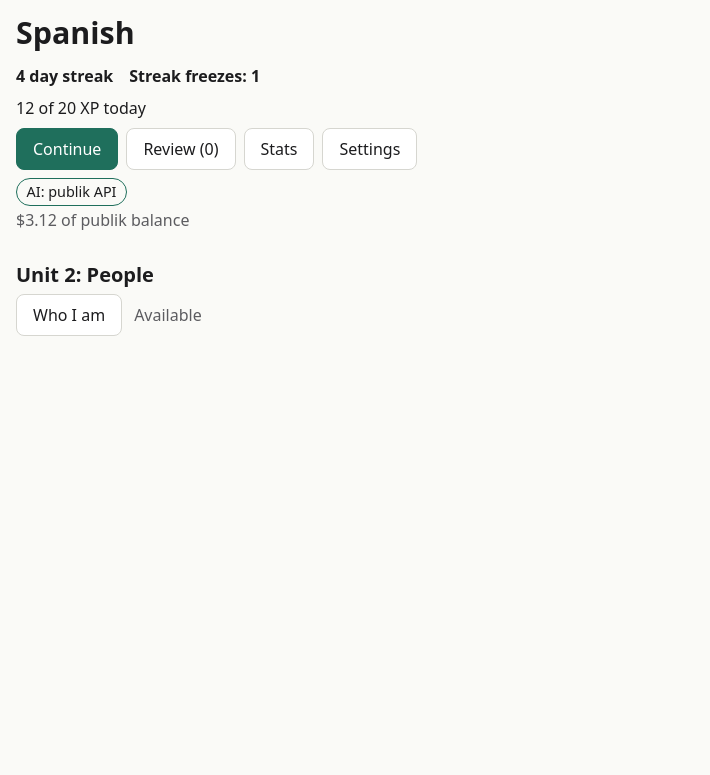
The speak exercise (acceptance test 25) › shows Say this, the sentence, its English, Play and Slow, and Hold to talk
Click the button "Continue": (67, 149) [16, 128, 118, 170]
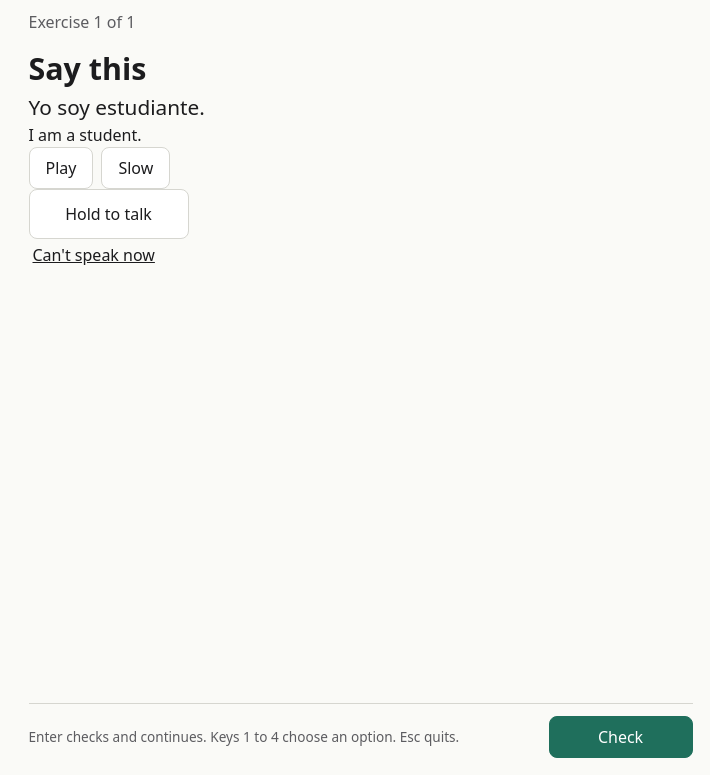
Check: the heading "Say this" is shown, box [28, 48, 146, 89]
Check: the button with aria-label "Play the sentence" is shown, box [28, 147, 94, 189]
Check: the button with aria-label "Play it slowly" is shown, box [102, 147, 170, 189]
